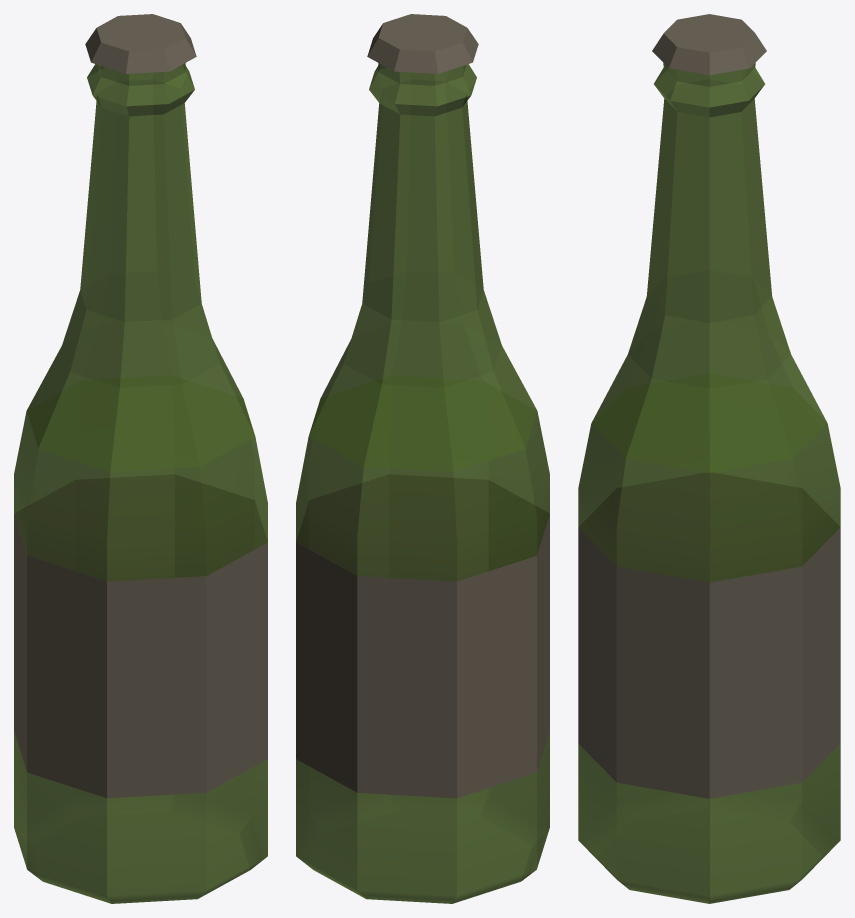
File: GreenBote.fbx
3 views of the same model, side by side, from view 1: azimuth 30°, elevation 25°; view 2: azimuth 150°, elevation 25°; view 3: azimuth 270°, elevation 25° (orthographic).
Visible parts, largest first — view 1: Glass_Bottle1; view 2: Glass_Bottle1; view 3: Glass_Bottle1.
Boxes of the visible parts, bbox=[...] form: Glass_Bottle1: bbox=[14, 14, 267, 903]; Glass_Bottle1: bbox=[296, 14, 549, 903]; Glass_Bottle1: bbox=[578, 14, 840, 903].
Bounding box in the file's own units: 0.8964 × 3.1 × 0.8964.
